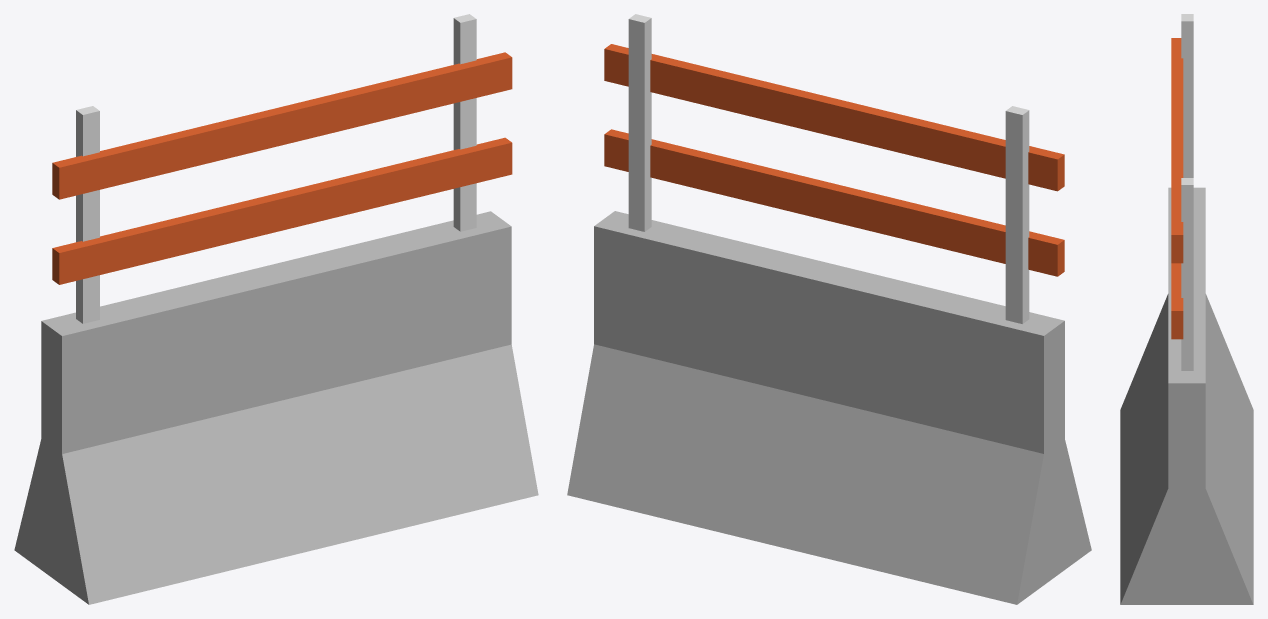
File: Blocker.fbx
3 views of the same model, side by side, from view 1: azimuth 30°, elevation 25°; view 2: azimuth 150°, elevation 25°; view 3: azimuth 270°, elevation 25° (orthographic). The views are drawn at different scales.
Visible parts, largest first — view 1: Cube.009, Cube.013, Cube.012, Cube.010, Cube.011; view 2: Cube.009, Cube.012, Cube.013, Cube.010, Cube.011; view 3: Cube.009, Cube.013, Cube.011, Cube.010, Cube.012.
Part boxes in pixels (x1,y1,x2,y2): Cube.009: (14,211,538,604); Cube.013: (52,52,512,199); Cube.012: (52,137,512,284); Cube.010: (76,106,99,323); Cube.011: (453,14,476,231); Cube.009: (567,211,1091,604); Cube.012: (604,129,1064,276); Cube.013: (604,44,1064,191); Cube.010: (1005,106,1029,323); Cube.011: (628,14,651,231); Cube.009: (1120,187,1253,604); Cube.013: (1171,38,1183,263); Cube.011: (1181,178,1193,370); Cube.010: (1181,14,1193,177); Cube.012: (1171,263,1183,339).
Bounding box in the file's own units: 370 × 357 × 106.
